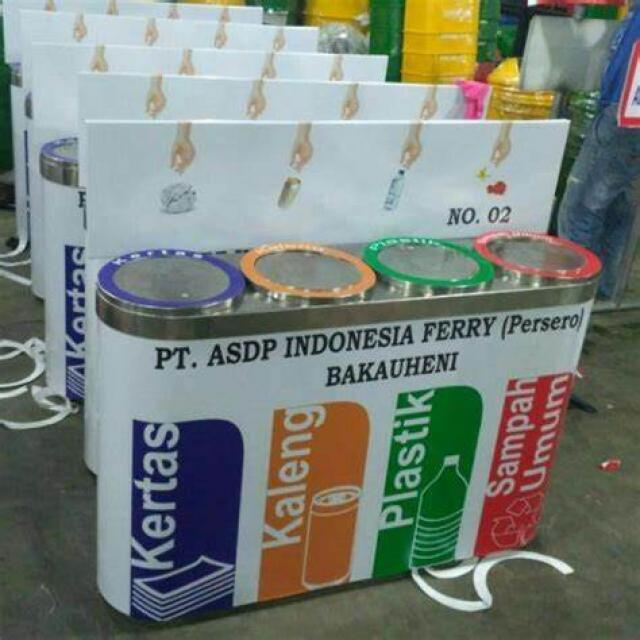garbage container: (93, 216, 596, 640)
